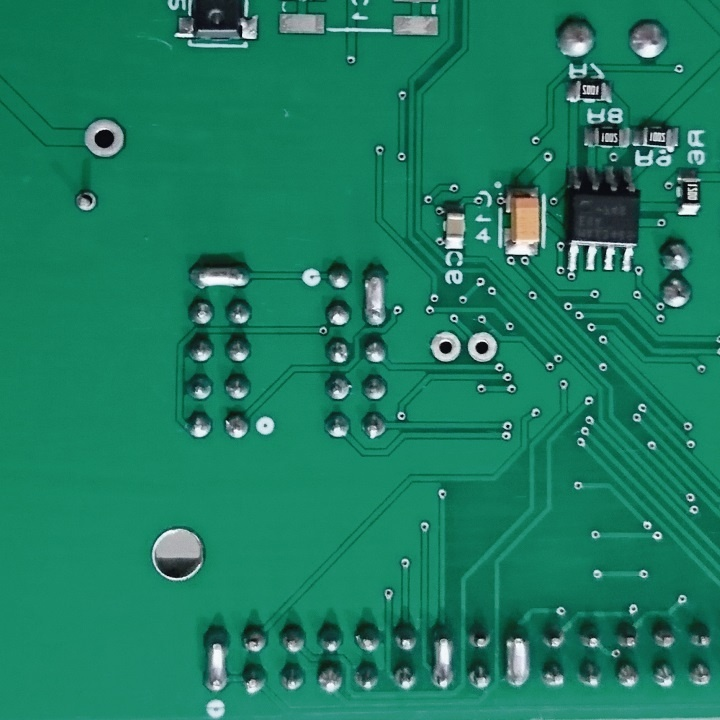F: (82, 115, 129, 163), (464, 326, 501, 367), (425, 327, 463, 365), (72, 189, 101, 214)
P: (196, 619, 236, 700), (499, 620, 535, 693), (182, 260, 259, 293), (360, 262, 392, 329), (430, 624, 459, 694)
